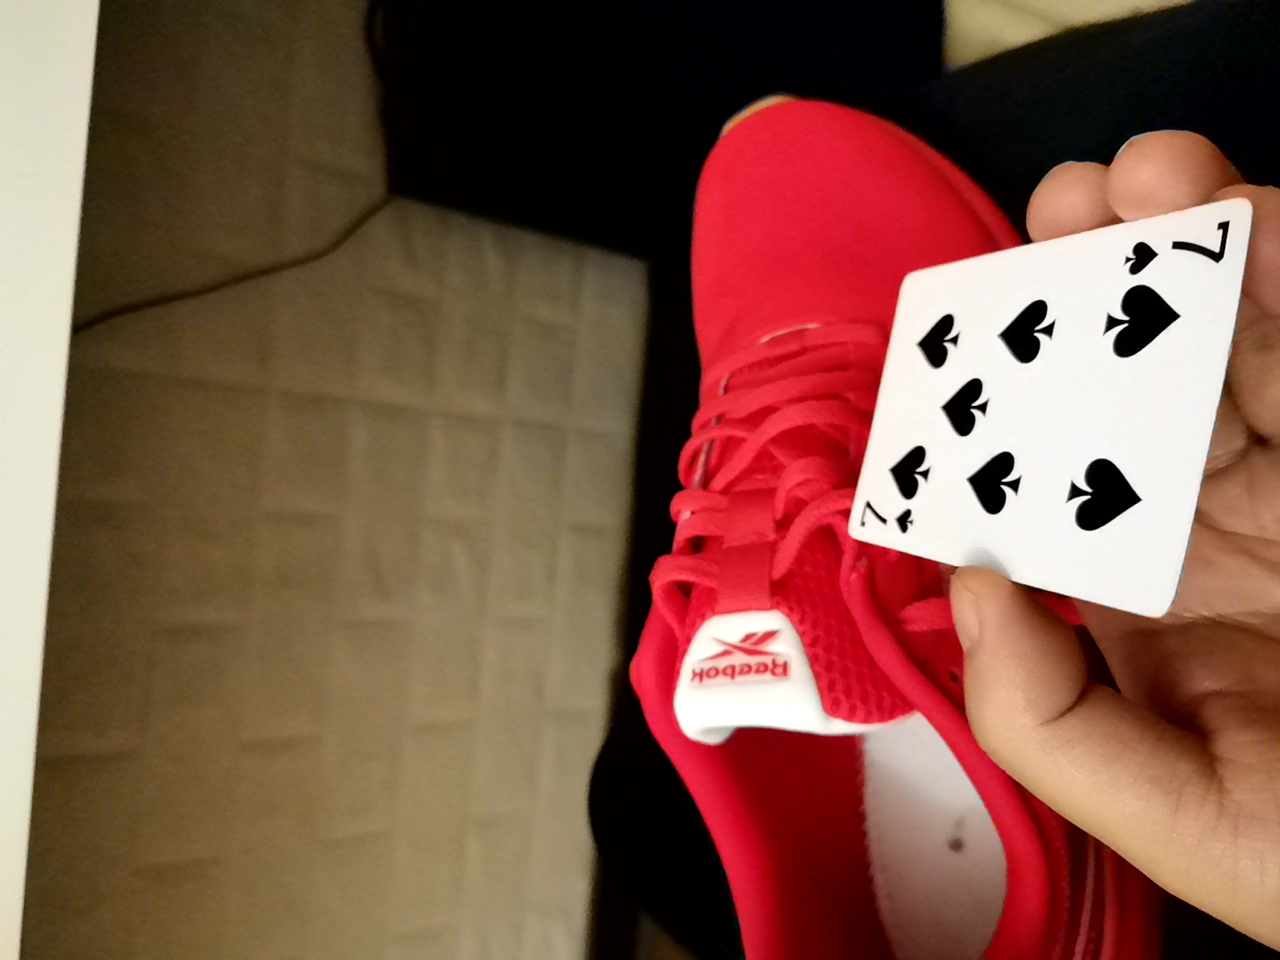ht 7: (844, 208, 1280, 619)
